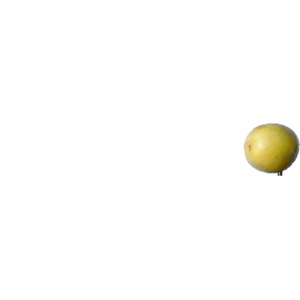maracujá: (244, 123, 300, 176)
